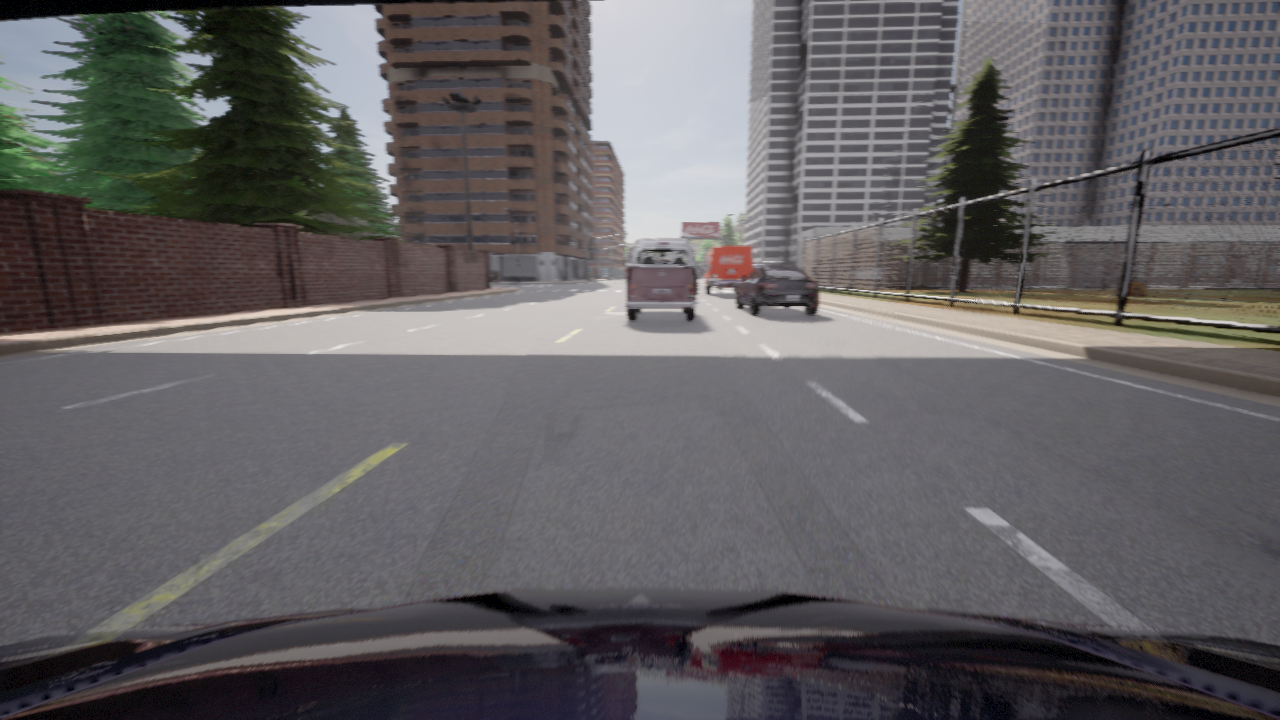cyclist: (0, 588, 1279, 719), (625, 237, 697, 320), (736, 265, 818, 315), (701, 246, 752, 294), (752, 262, 792, 269), (623, 253, 630, 282), (758, 262, 761, 263)
